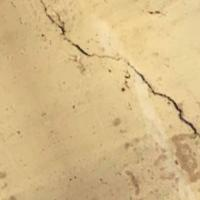crack: (38, 1, 199, 160)
